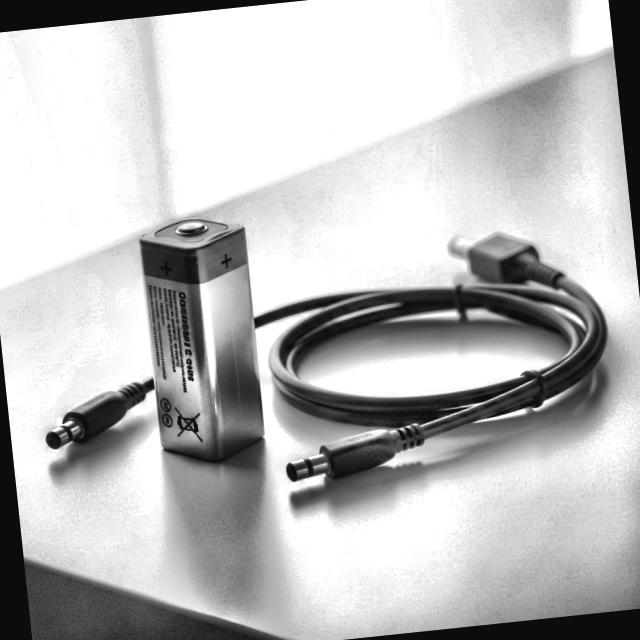Battery: (136, 209, 266, 468)
Cable: (28, 219, 620, 526)
